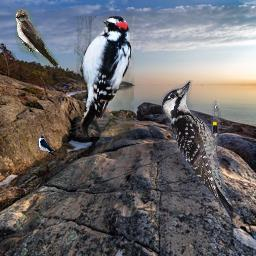Swallow: (15, 9, 59, 67), (38, 135, 56, 155)
Woodpecker: (161, 80, 235, 222), (74, 16, 135, 137)
